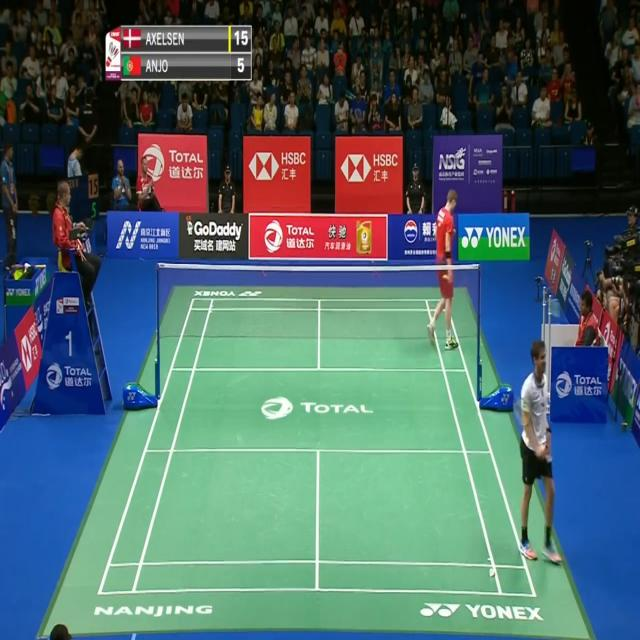Player1: (513, 339, 565, 575)
Player2: (423, 173, 465, 359)
